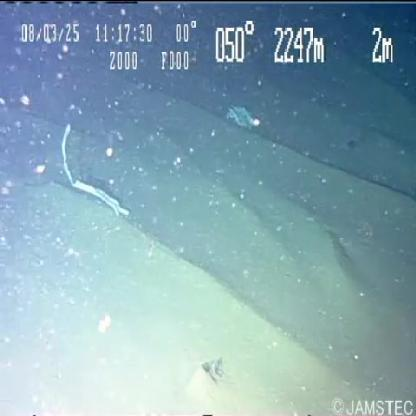Rác: (59, 120, 130, 222)
